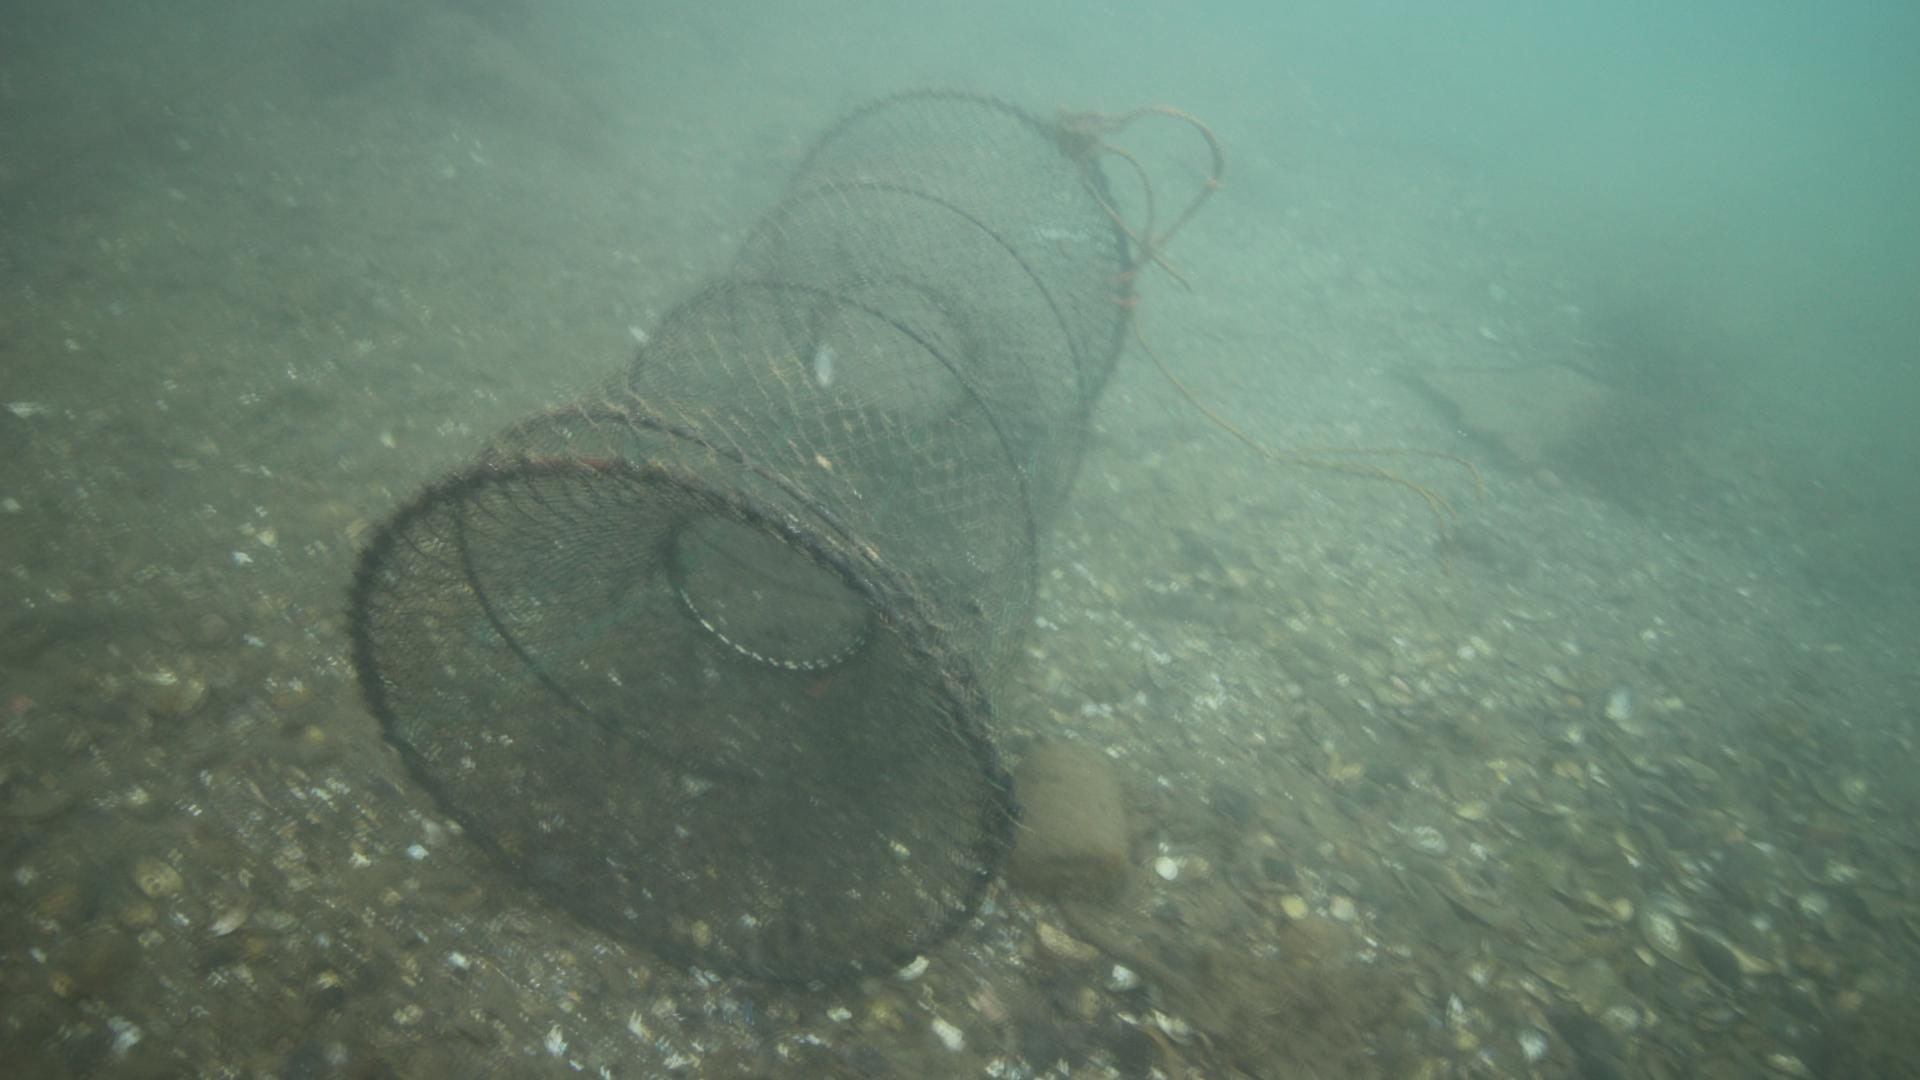bundle of ropes: (1058, 103, 1226, 272)
spring fish trap: (344, 82, 1135, 1002)
